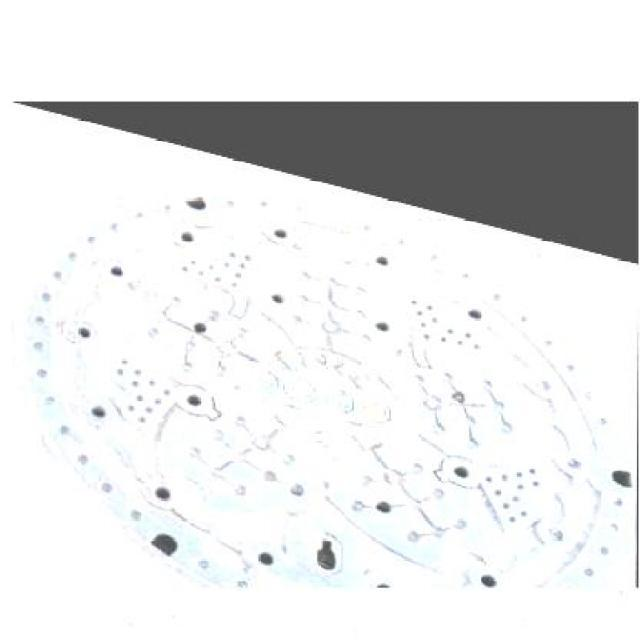Manhole: (9, 102, 638, 588)
